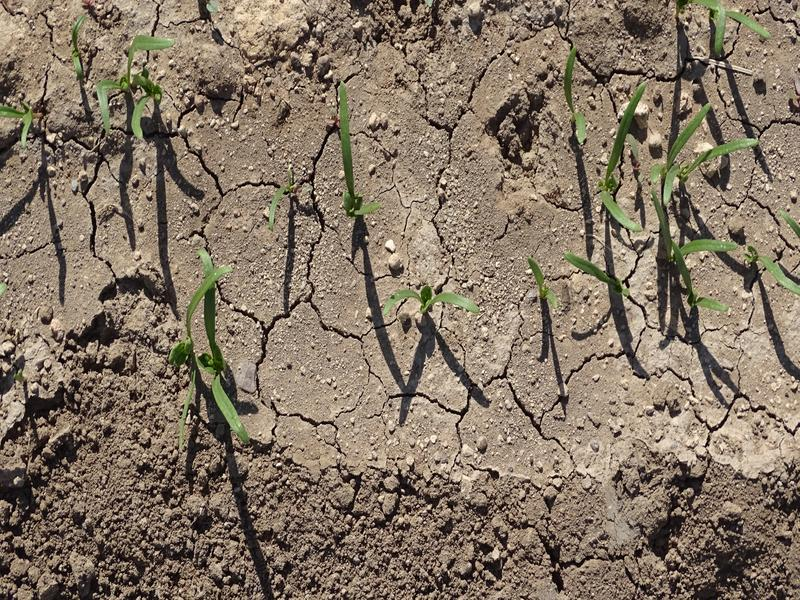Espinaca: (653, 127, 796, 317), (171, 248, 233, 447), (587, 79, 658, 232), (96, 26, 176, 144), (334, 84, 379, 223), (374, 277, 479, 325), (690, 1, 768, 62), (560, 244, 636, 300), (563, 48, 586, 147), (524, 254, 563, 308), (1, 94, 42, 145), (69, 15, 88, 72)
